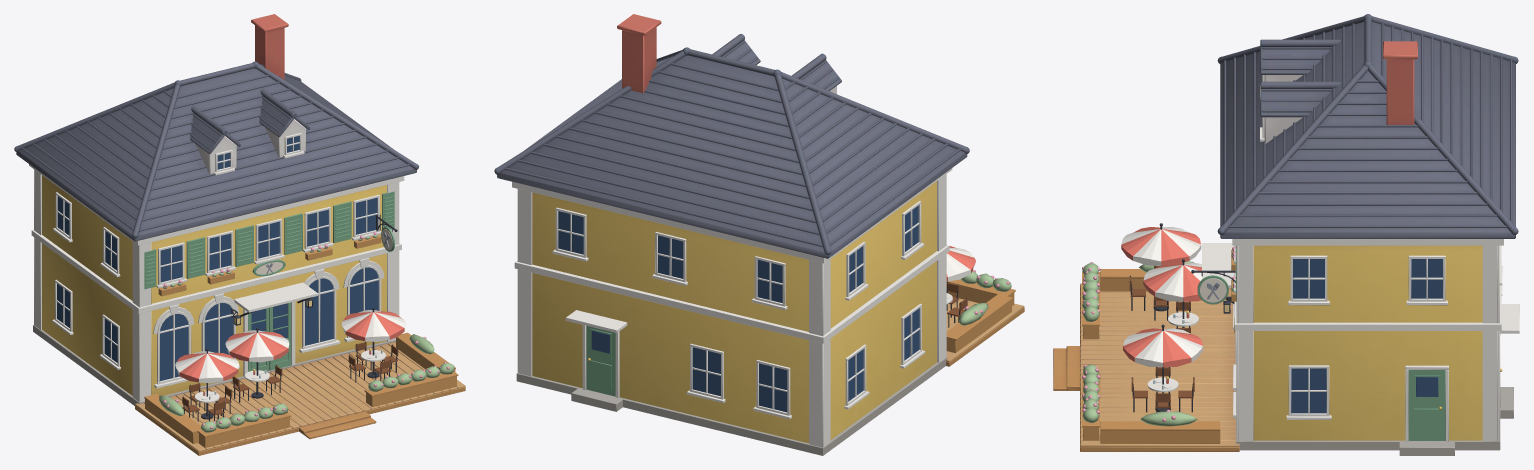
Rendered from restaurant-ZLTYDXKE.glb.
The picture shows the model from 3 angles, left to right: view 1: azimuth 30°, elevation 25°; view 2: azimuth 150°, elevation 25°; view 3: azimuth 270°, elevation 25°; orthographic projection. The views are drawn at different scales.
Visible parts, largest first — view 1: restaurant_body, restaurant_details, restaurant_furniture, restaurant_plants, restaurant_door_right, restaurant_door_left; view 2: restaurant_body, restaurant_details, restaurant_furniture, restaurant_plants; view 3: restaurant_body, restaurant_details, restaurant_furniture, restaurant_plants.
Part boxes in pixels (box(x1,y1,x2,y2)): restaurant_body: box(14, 14, 465, 455); restaurant_details: box(29, 133, 458, 447); restaurant_furniture: box(175, 307, 405, 421); restaurant_plants: box(159, 334, 454, 432); restaurant_door_right: box(269, 302, 291, 370); restaurant_door_left: box(248, 308, 269, 371); restaurant_body: box(494, 14, 1024, 443); restaurant_details: box(512, 168, 1015, 455); restaurant_furniture: box(946, 246, 975, 327); restaurant_plants: box(959, 270, 1011, 325); restaurant_body: box(1053, 14, 1518, 451); restaurant_details: box(1082, 75, 1519, 455); restaurant_furniture: box(1121, 223, 1203, 412); restaurant_plants: box(1082, 261, 1197, 426).
Bounding box in the file's own units: 11.15 × 10.85 × 12.62.
Materials: 21 (1 with a texture image).
